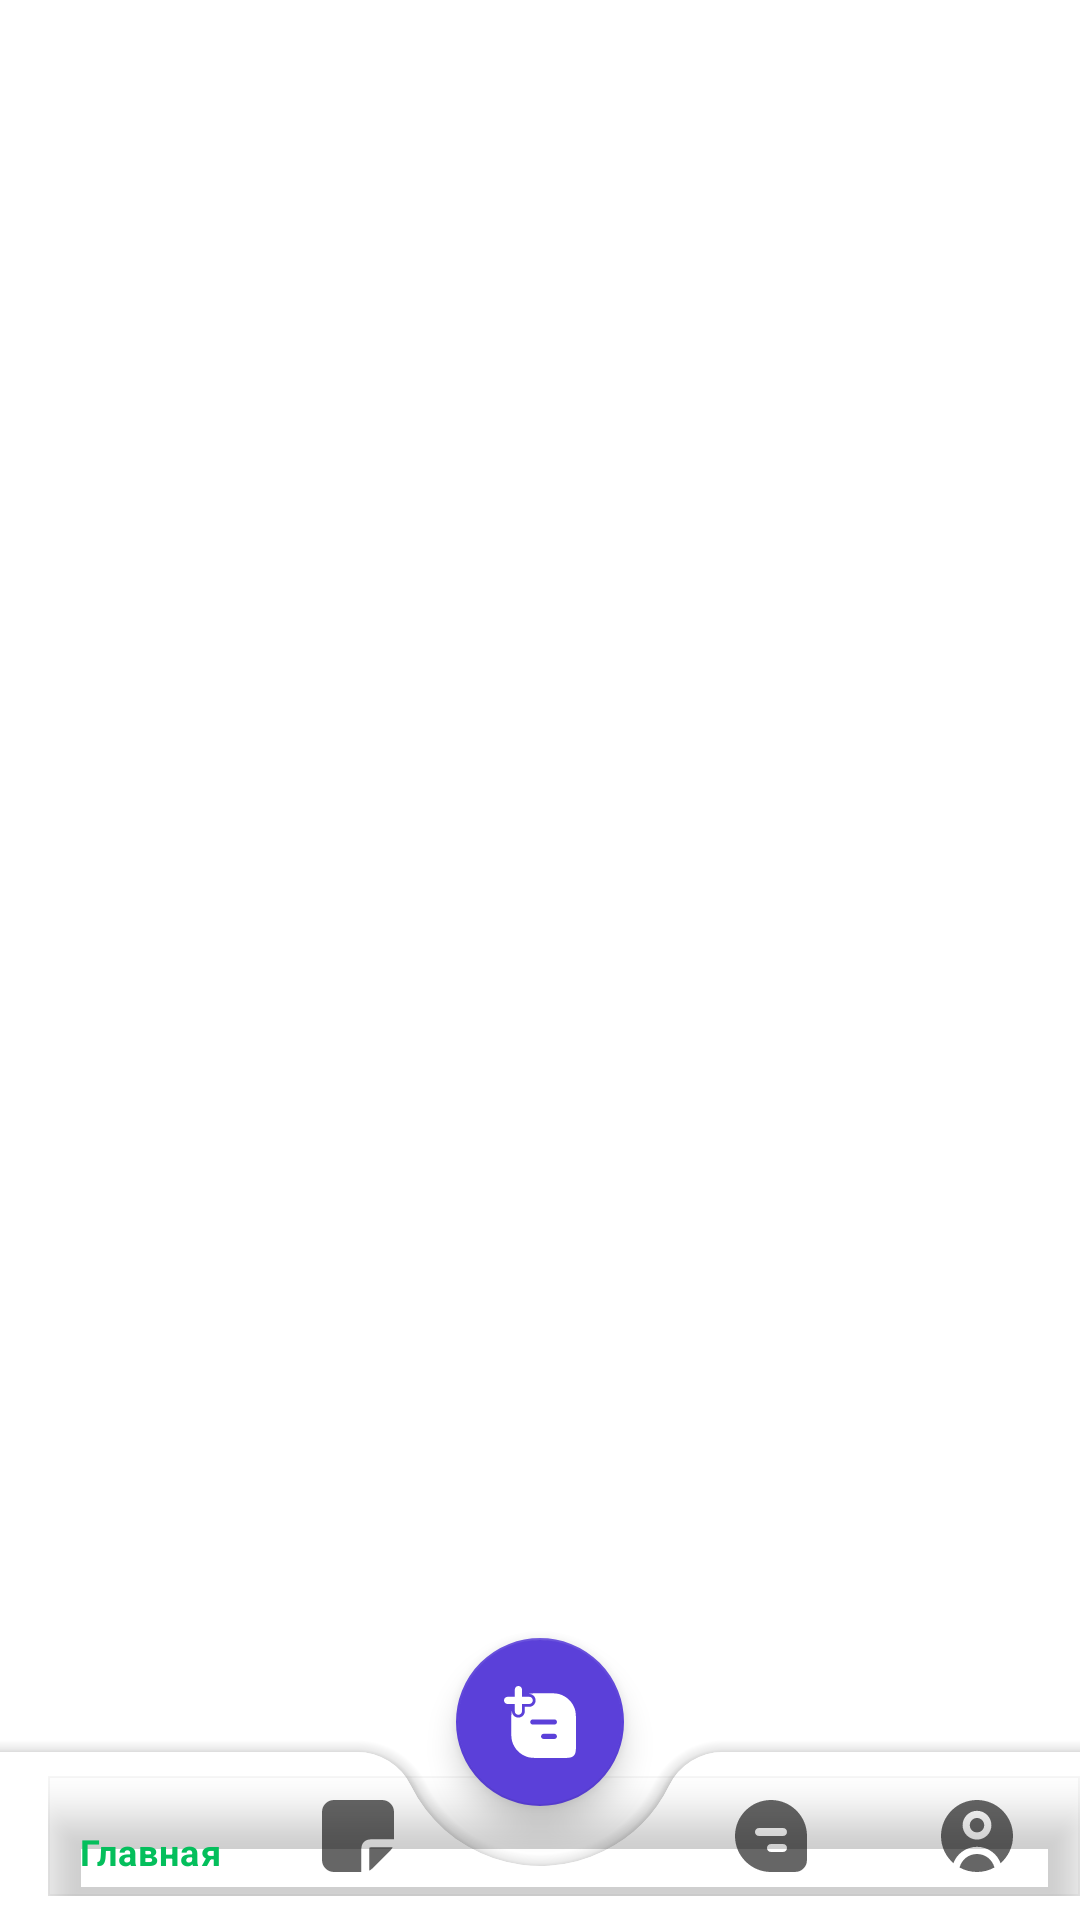

Where to tap for icons on this 1080 × 1920 app screen, as (x=x, y=y):
to order: (x=540, y=1752)
